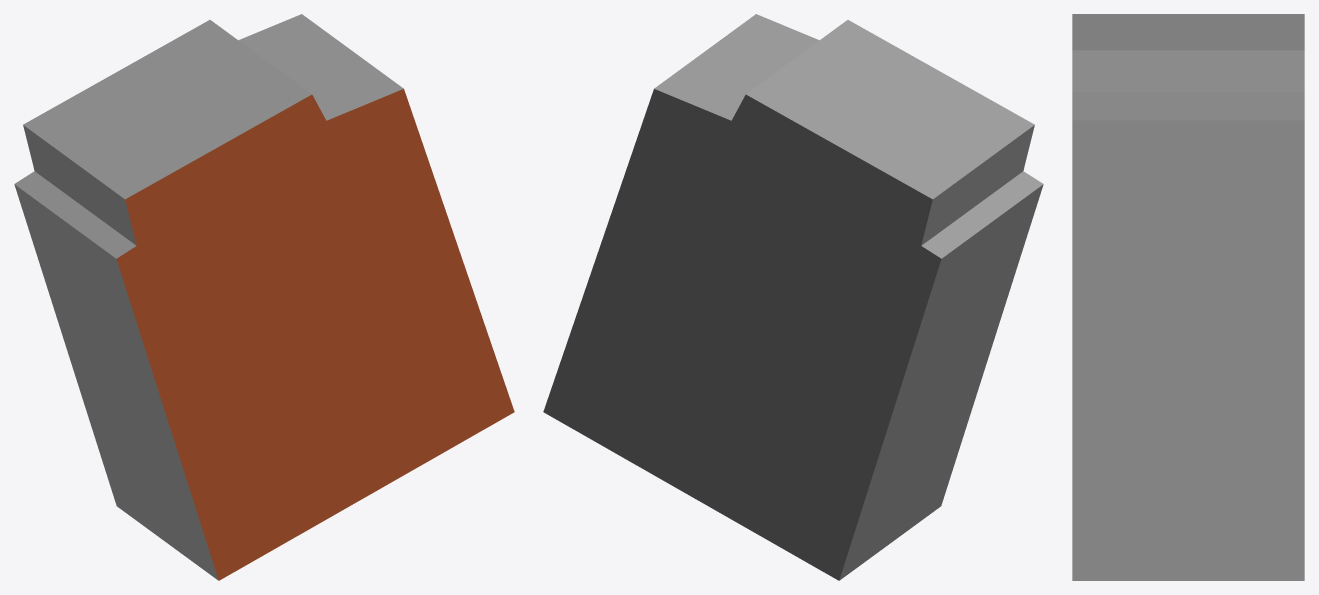
File: construction_7061_assumed_A_Casa_h6m.obj
3 views of the same model, side by side, from view 1: azimuth 30°, elevation 25°; view 2: azimuth 150°, elevation 25°; view 3: azimuth 270°, elevation 25° (orthographic). The views are drawn at different scales.
Parts seen in each view (by area): view 1: construction_7061_assumed_A_Casa; view 2: construction_7061_assumed_A_Casa; view 3: construction_7061_assumed_A_Casa.
Part boxes in pixels (x1,y1,x2,y2): construction_7061_assumed_A_Casa: (14,14,514,580); construction_7061_assumed_A_Casa: (543,14,1043,580); construction_7061_assumed_A_Casa: (1072,14,1304,580).
Bounding box in the file's own units: 13.51 × 15.03 × 6.
